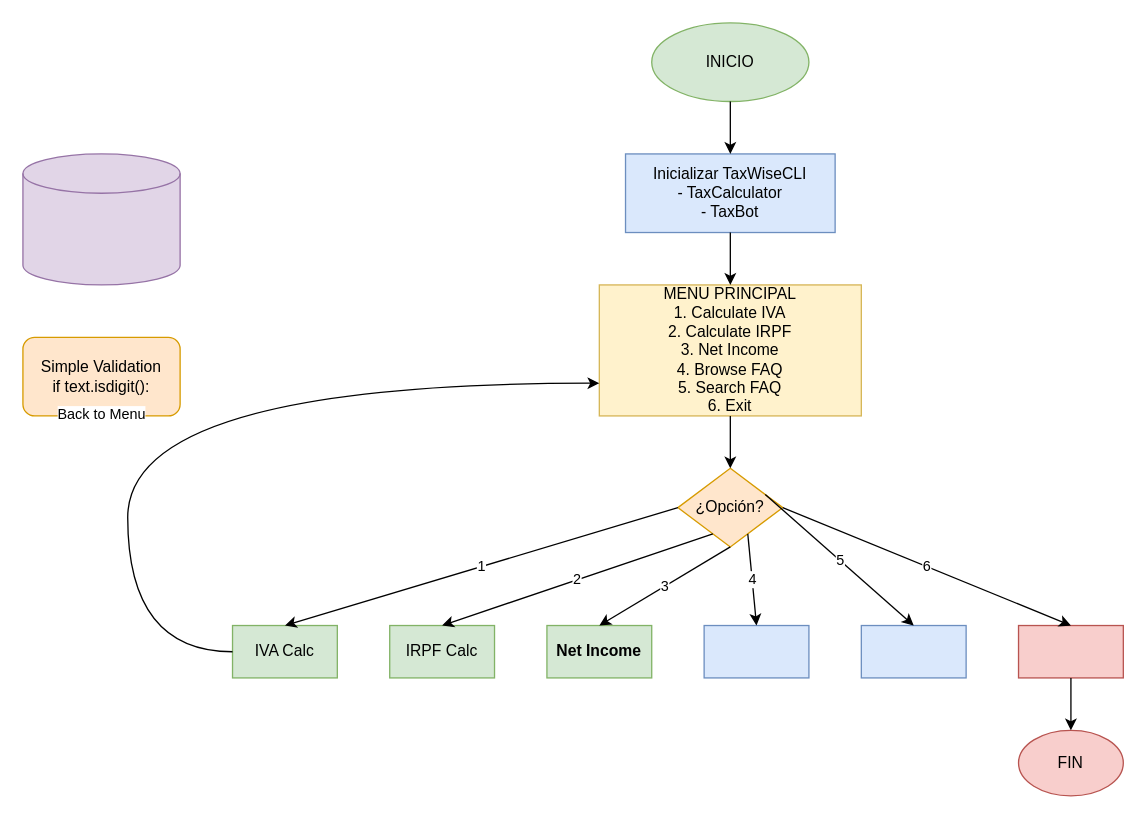
This 1146x819 diagram has some shape labels left out. The shapes that lost their labels are listed below. From the top down, each one's centre as x and y in pixels, then its label:
At [101,219]: "FAQs Dictionary iva, irpf, autonomo deadlines, deductions, rates".
At [756,651]: "Browse FAQ".
At [913,651]: "Search FAQ".
At [1070,651]: "Exit".
